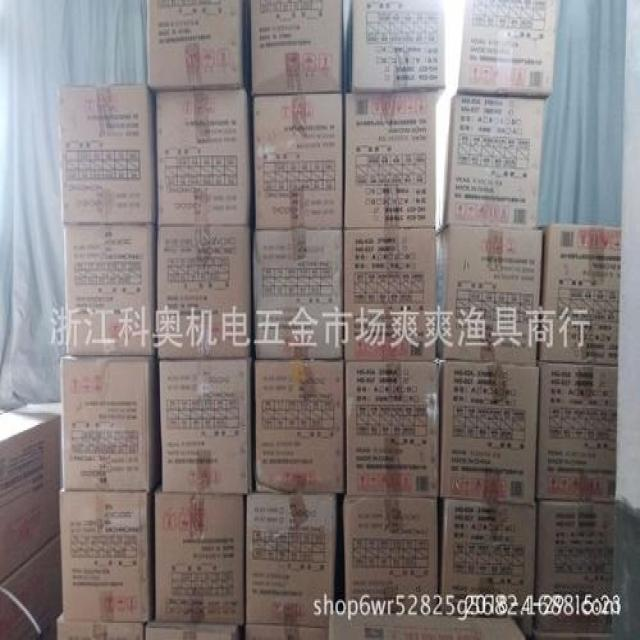box: (435, 92, 545, 234), (434, 226, 541, 365), (440, 359, 538, 501), (57, 85, 155, 225), (153, 92, 253, 225), (155, 222, 252, 358), (154, 88, 252, 222), (344, 361, 441, 496), (61, 357, 158, 492), (157, 359, 254, 493), (344, 93, 436, 227), (252, 94, 343, 228), (64, 223, 156, 355), (58, 491, 152, 620), (343, 226, 434, 359), (253, 360, 344, 493), (245, 494, 335, 628), (252, 227, 343, 358), (153, 494, 244, 624), (438, 499, 536, 616), (0, 403, 63, 584), (340, 497, 438, 613), (446, 1, 561, 99), (540, 225, 620, 365), (537, 364, 618, 502), (342, 0, 446, 106), (534, 503, 615, 620), (248, 1, 344, 95), (0, 533, 63, 638), (328, 609, 526, 638), (56, 611, 146, 638), (141, 622, 239, 638), (239, 624, 329, 638)
